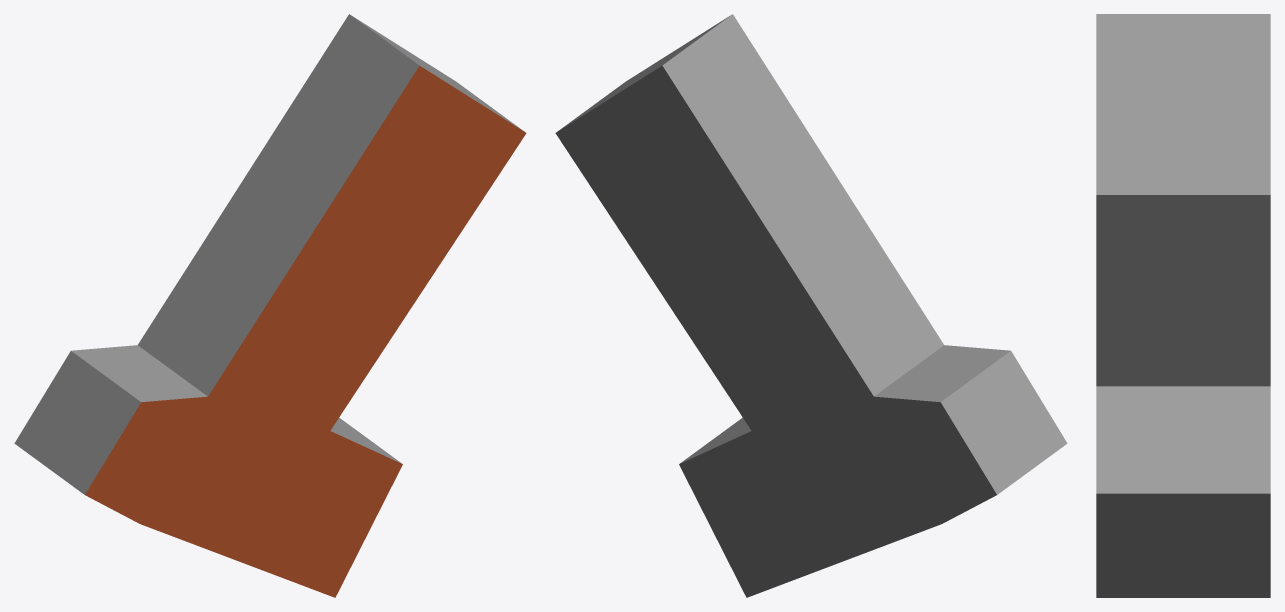
Rendered from construction_2579_assumed_A_Casa_h6m.obj.
The picture shows the model from 3 angles, left to right: view 1: azimuth 30°, elevation 25°; view 2: azimuth 150°, elevation 25°; view 3: azimuth 270°, elevation 25°; orthographic projection. The views are drawn at different scales.
Visible parts, largest first — view 1: construction_2579_assumed_A_Casa; view 2: construction_2579_assumed_A_Casa; view 3: construction_2579_assumed_A_Casa.
Boxes of the visible parts, x1,y1,x2,y2 form: construction_2579_assumed_A_Casa: [14, 14, 526, 597]; construction_2579_assumed_A_Casa: [555, 14, 1067, 597]; construction_2579_assumed_A_Casa: [1096, 14, 1270, 597].
Size of the model in its own units: 21.74 by 24.07 by 6.
